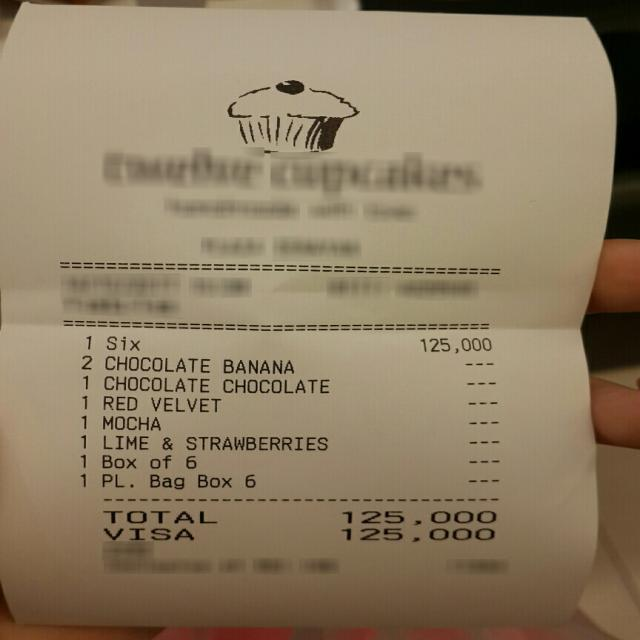kertas: (0, 5, 617, 638)
